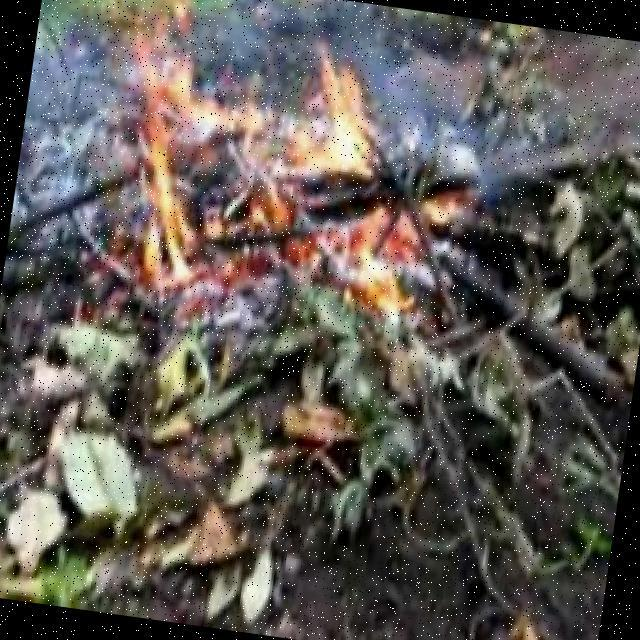Fire: (104, 11, 452, 314)
